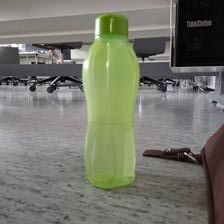bottle: (81, 11, 142, 192)
